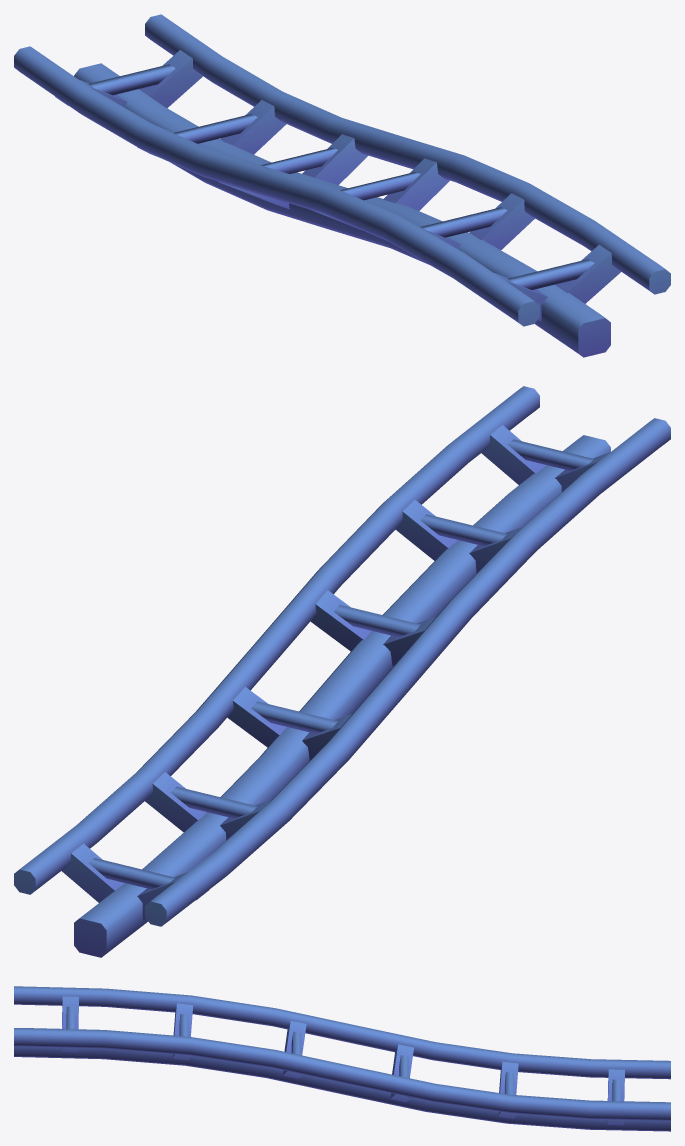
Rendered from coaster-steel-straight-hill-complete-half.glb.
The picture shows the model from 3 angles, top to bottom: view 1: azimuth 30°, elevation 25°; view 2: azimuth 150°, elevation 25°; view 3: azimuth 270°, elevation 25°; orthographic projection. The views are drawn at different scales.
Visible parts, largest first — view 1: coaster-steel-straight-hill-complete-half; view 2: coaster-steel-straight-hill-complete-half; view 3: coaster-steel-straight-hill-complete-half.
Boxes of the visible parts, x1,y1,x2,y2 form: coaster-steel-straight-hill-complete-half: (14, 14, 670, 357); coaster-steel-straight-hill-complete-half: (14, 386, 670, 957); coaster-steel-straight-hill-complete-half: (14, 986, 670, 1131).
Bounding box in the file's own units: 0.6997 × 0.7998 × 4.
1 material, 1 textured.
